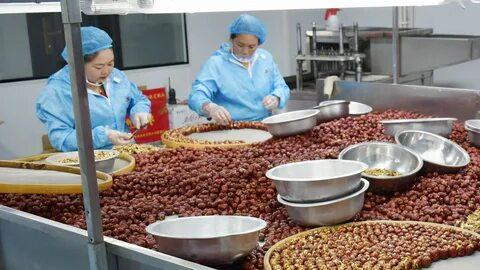hairnet: (58, 18, 120, 56), (225, 14, 272, 43)
